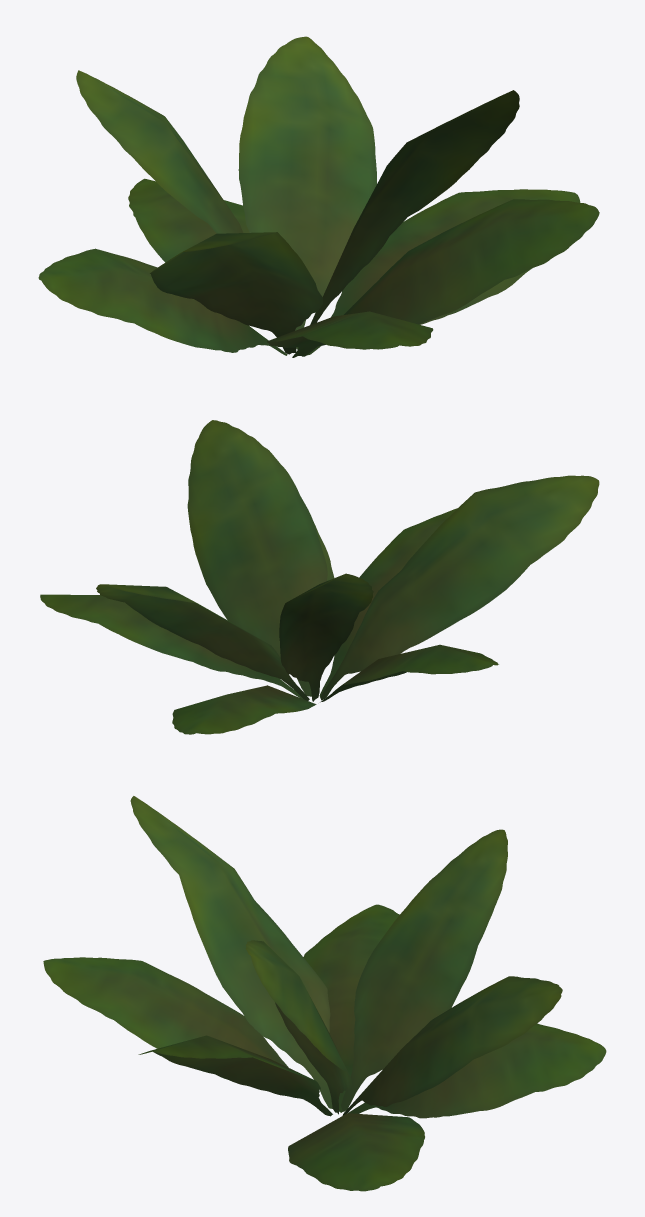
The model's file is Plant_01.fbx.
The picture shows the model from 3 angles, top to bottom: view 1: azimuth 30°, elevation 25°; view 2: azimuth 150°, elevation 25°; view 3: azimuth 270°, elevation 25°; orthographic projection. The views are drawn at different scales.
Parts seen in each view (by area): view 1: Plant_01; view 2: Plant_01; view 3: Plant_01.
Part boxes in pixels (x1,y1,x2,y2): Plant_01: [38, 36, 599, 357]; Plant_01: [40, 420, 599, 734]; Plant_01: [43, 796, 606, 1191].
Size of the model in its own units: 184 by 83.22 by 182.
1 material, 1 textured.
